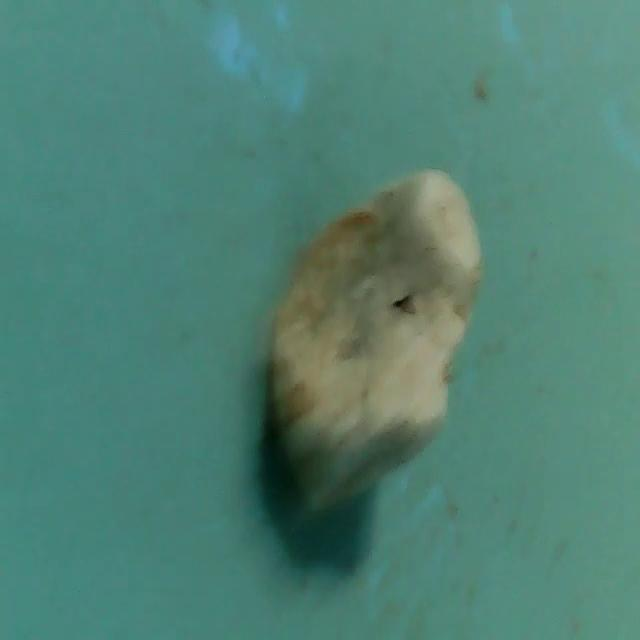rock: (260, 162, 494, 524)
